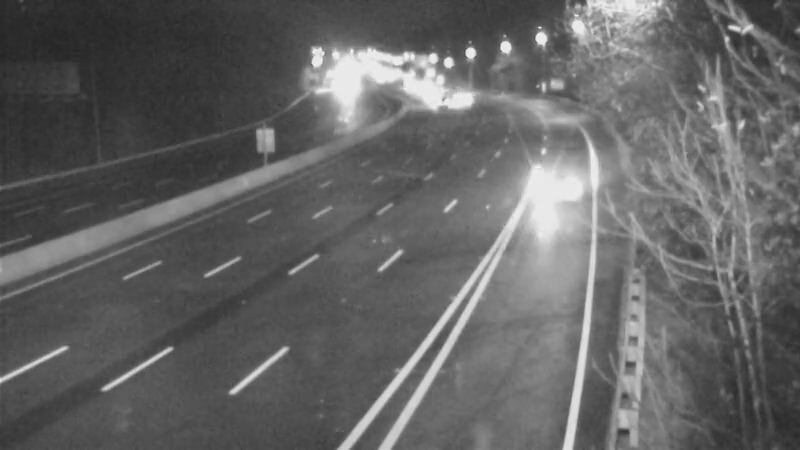vehicle: (517, 143, 597, 223), (439, 72, 489, 122), (410, 82, 460, 132)
